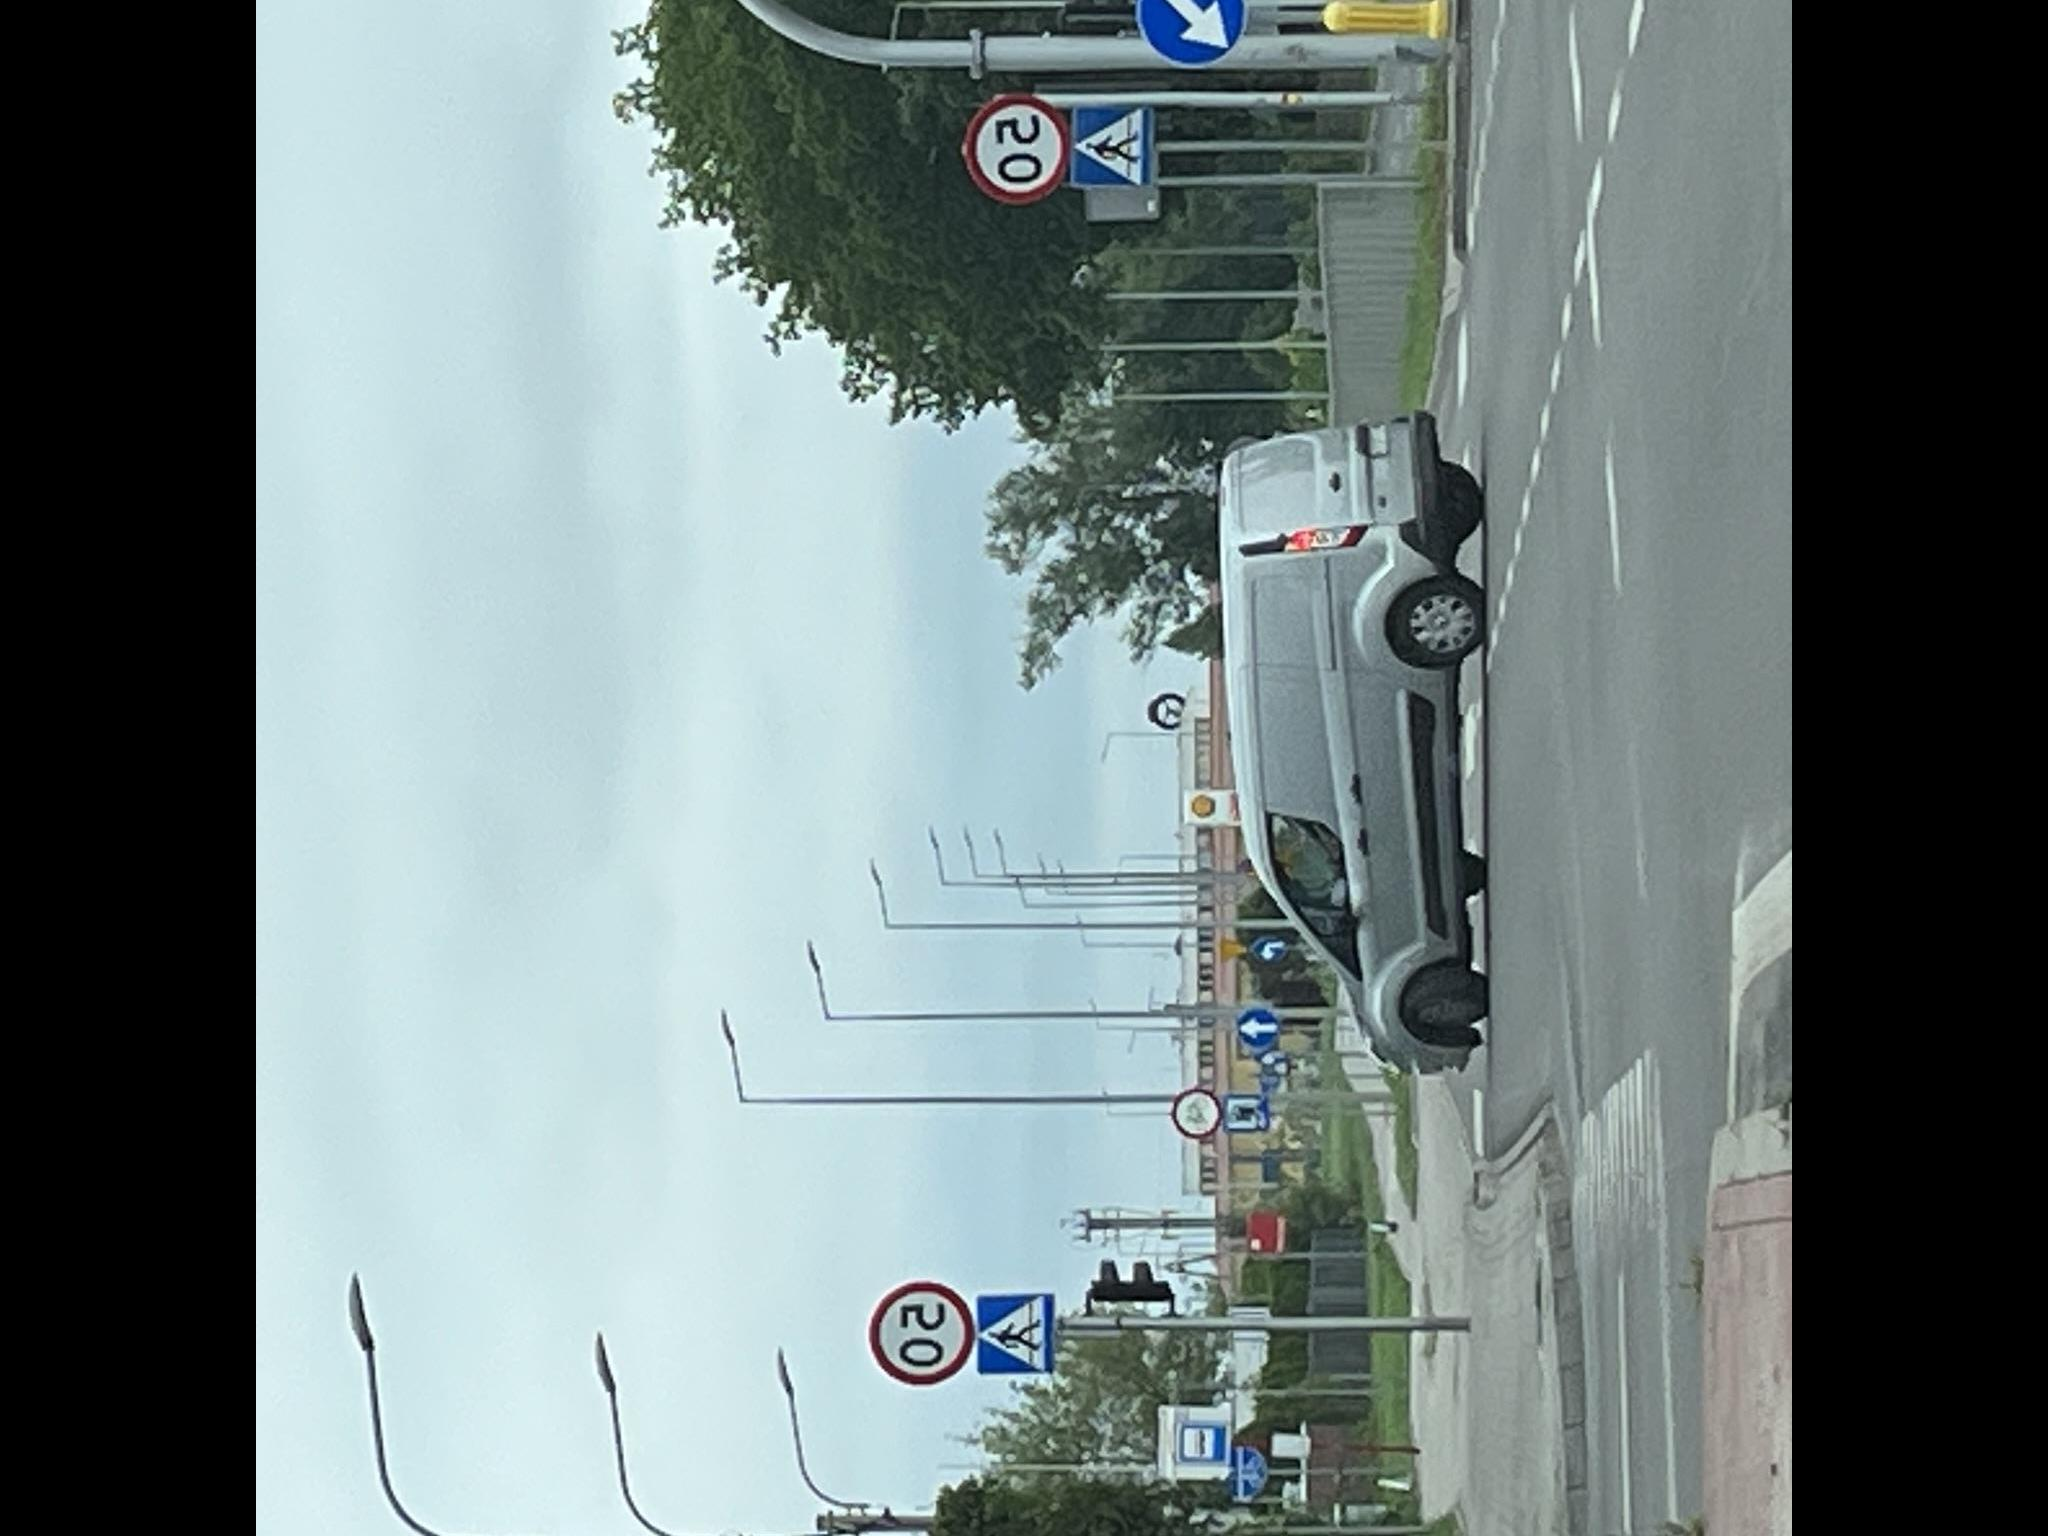information: (1072, 103, 1156, 186), (974, 1292, 1055, 1371), (1221, 1094, 1269, 1133)
mandatory: (1137, 0, 1250, 66), (1229, 1442, 1268, 1501), (1235, 1007, 1279, 1047), (1251, 936, 1287, 962), (1256, 1047, 1288, 1066)
prohibitory: (961, 92, 1069, 203), (866, 1278, 976, 1386), (1171, 1087, 1221, 1139)
warning: (1219, 937, 1247, 962)
